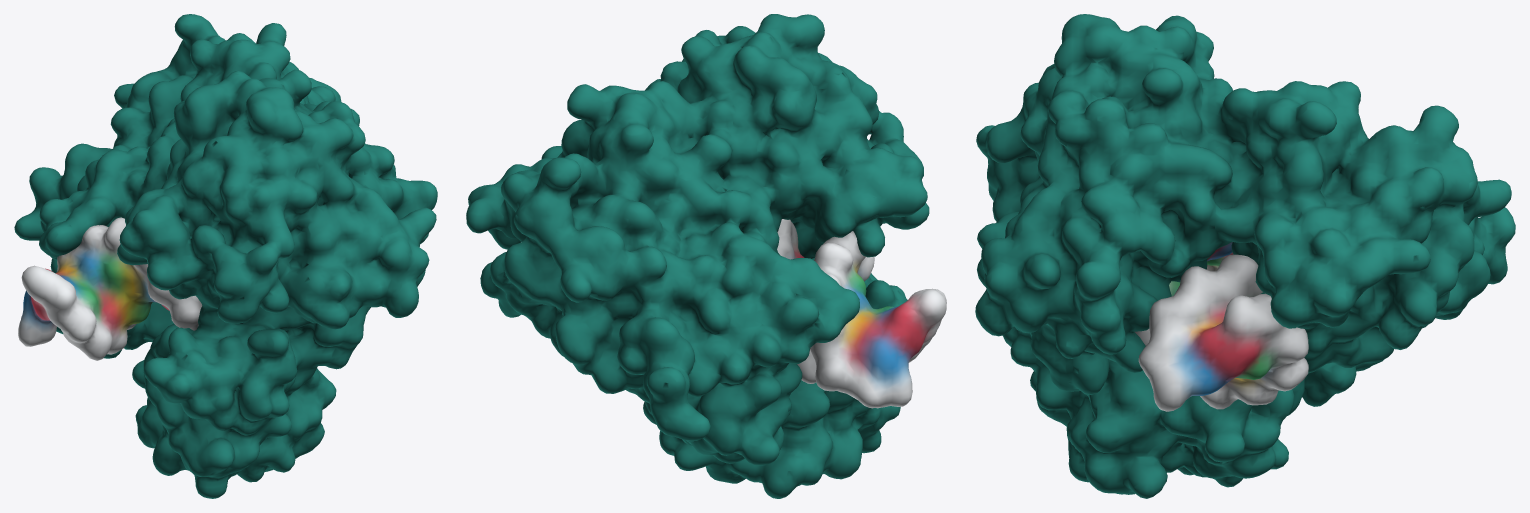
3 views of the same model, side by side, from view 1: azimuth 30°, elevation 25°; view 2: azimuth 150°, elevation 25°; view 3: azimuth 270°, elevation 25° (orthographic). The views are drawn at different scales.
Visible parts, largest first — view 1: 1X9N_protein, 1X9N_dna; view 2: 1X9N_protein, 1X9N_dna; view 3: 1X9N_protein, 1X9N_dna.
Boxes of the visible parts, x1,y1,x2,y2 form: 1X9N_protein: (14, 14, 437, 498); 1X9N_dna: (18, 217, 202, 360); 1X9N_protein: (466, 14, 929, 498); 1X9N_dna: (777, 219, 946, 408); 1X9N_protein: (975, 14, 1515, 498); 1X9N_dna: (1134, 242, 1308, 411).
Size of the model in its own units: 7.71 by 7.54 by 7.86.
